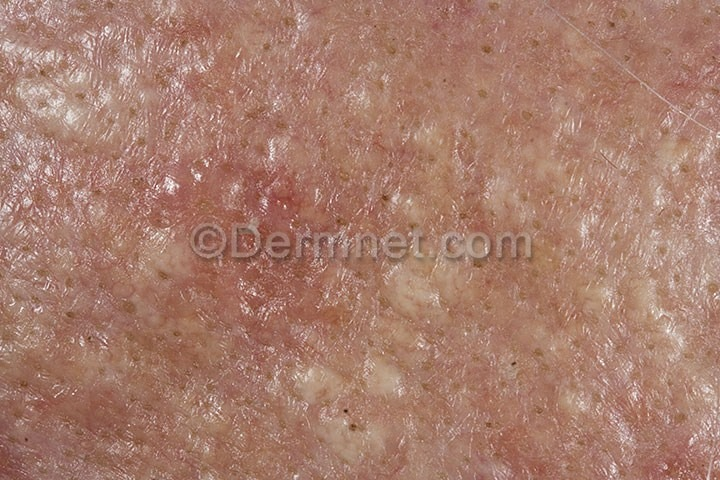Melasma: (466, 348, 720, 480), (198, 191, 591, 198)
